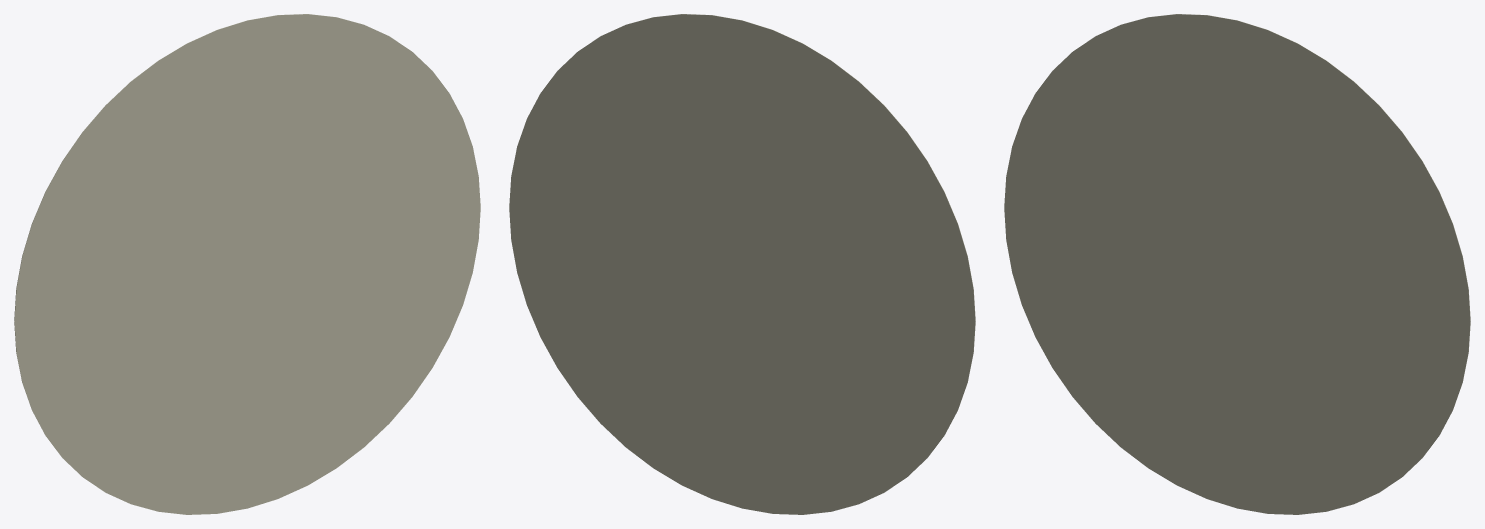
Rendered from paint_coat_3.obj.
The picture shows the model from 3 angles, left to right: view 1: azimuth 30°, elevation 25°; view 2: azimuth 150°, elevation 25°; view 3: azimuth 330°, elevation 25°; orthographic projection.
Bounding box in the file's own units: 0.0216 × 0.0216 × 2e-05.
